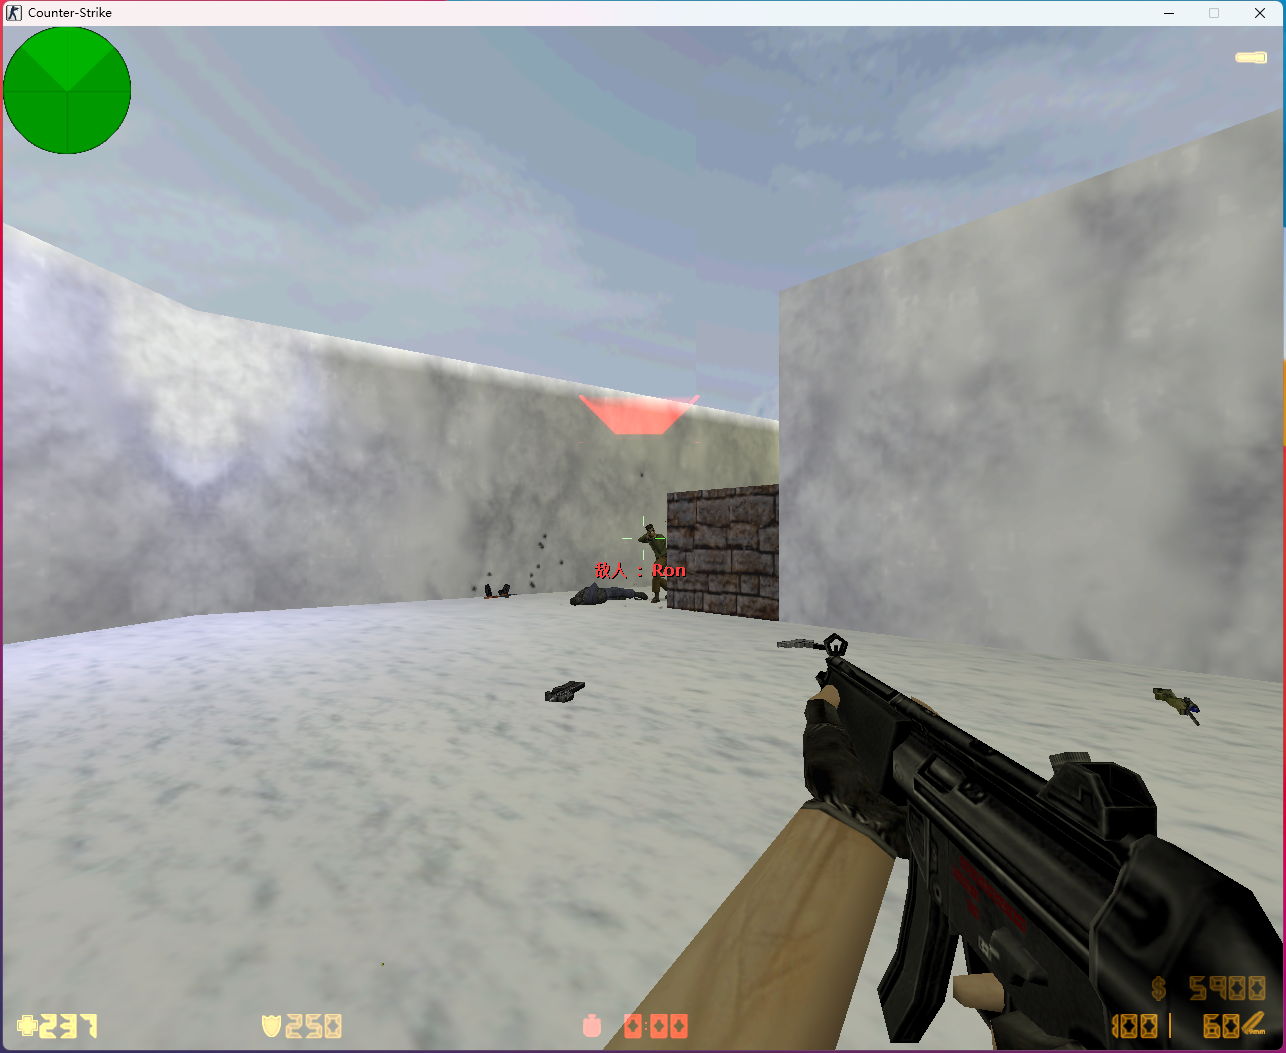T: (637, 523, 671, 602)
dead: (569, 582, 646, 607)
weapon: (1144, 685, 1203, 722), (539, 678, 587, 705), (767, 635, 834, 653)
